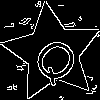Q: (27, 28, 89, 89)
